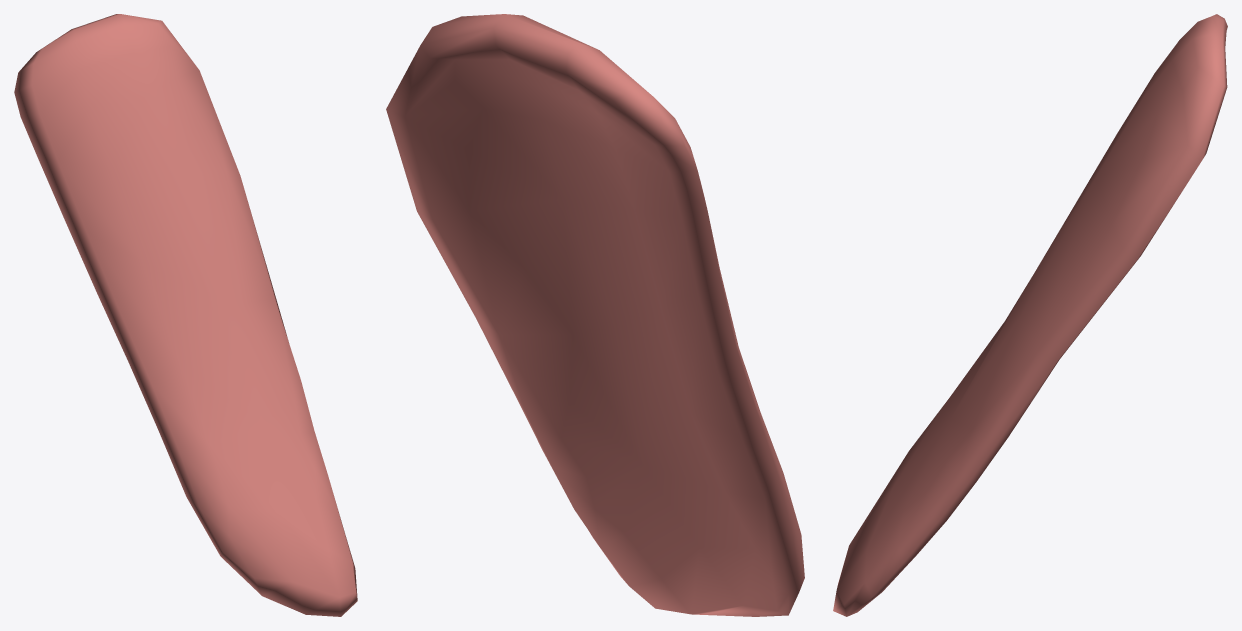
3 renders of one model, left to right at view 1: azimuth 30°, elevation 25°; view 2: azimuth 150°, elevation 25°; view 3: azimuth 270°, elevation 25°, orthographic. The views are drawn at different scales.
Parts seen in each view (by area): view 1: ZA_de03a6e5491ac1a3; view 2: ZA_de03a6e5491ac1a3; view 3: ZA_de03a6e5491ac1a3.
Boxes of the visible parts, x1,y1,x2,y2 form: ZA_de03a6e5491ac1a3: (14, 14, 357, 616); ZA_de03a6e5491ac1a3: (386, 14, 804, 616); ZA_de03a6e5491ac1a3: (833, 14, 1227, 616).
Bounding box in the file's own units: 0.00359 × 0.00875 × 0.00571.
